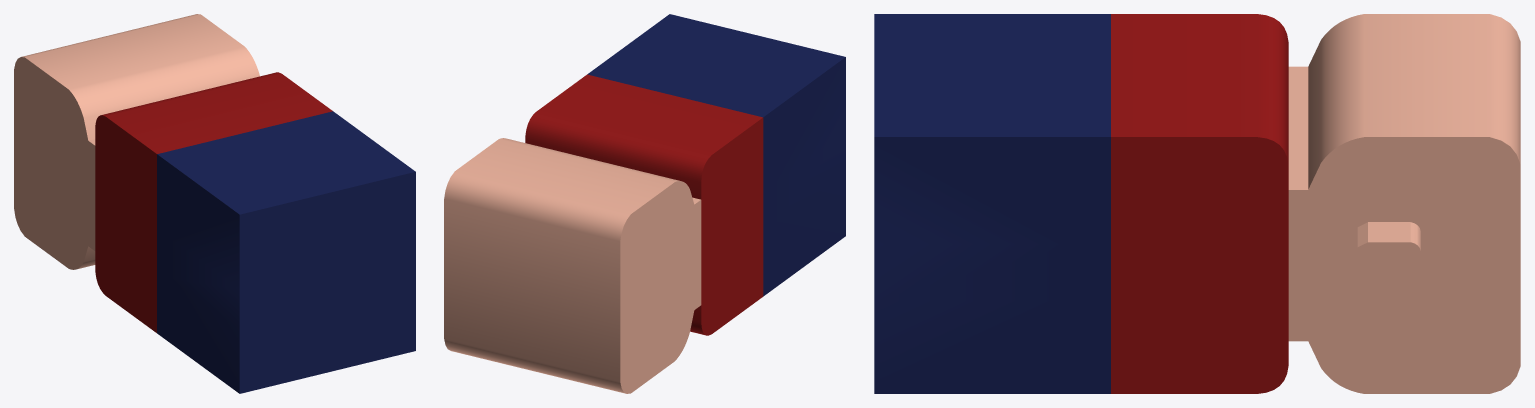
The model's file is potiga.fbx.
3 renders of one model, left to right at view 1: azimuth 30°, elevation 25°; view 2: azimuth 150°, elevation 25°; view 3: azimuth 270°, elevation 25°, orthographic. The views are drawn at different scales.
Parts seen in each view (by area): view 1: Box001; view 2: Box001; view 3: Box001.
Part boxes in pixels (<box>): Box001: <box>14,14,415,393</box>; Box001: <box>444,14,845,393</box>; Box001: <box>874,14,1520,393</box>.
Size of the model in its own units: 42.05 by 35.17 by 80.22.
